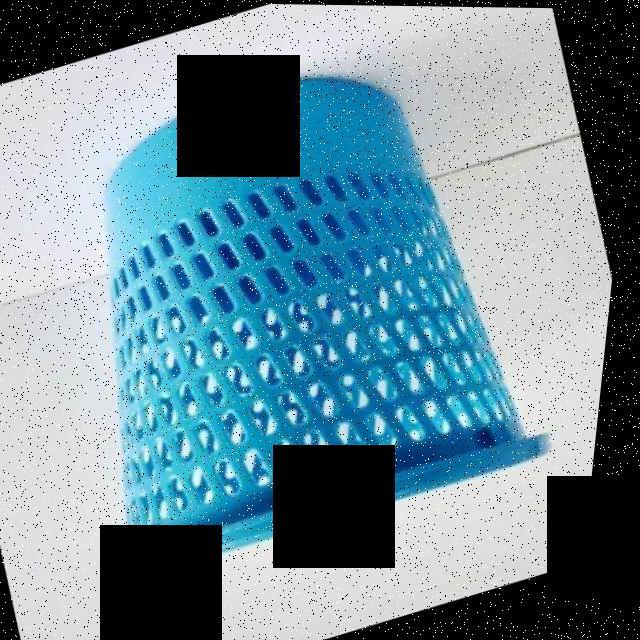obstacle: (0, 0, 630, 636)
